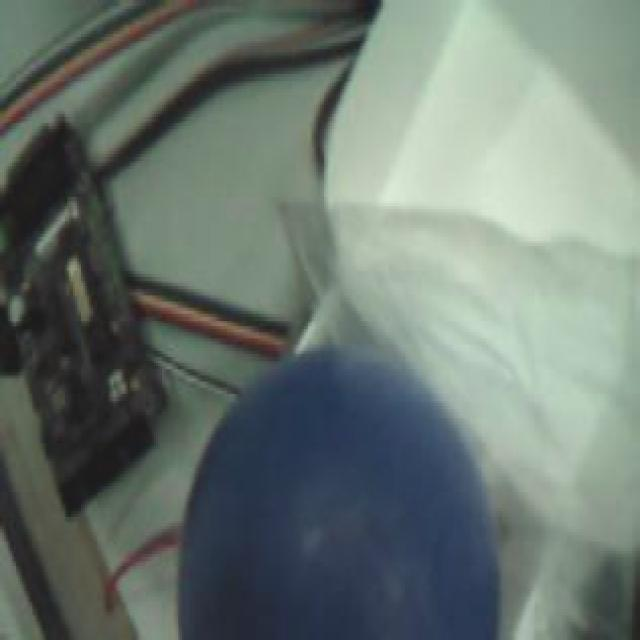BallPurple: (177, 349, 501, 640)
